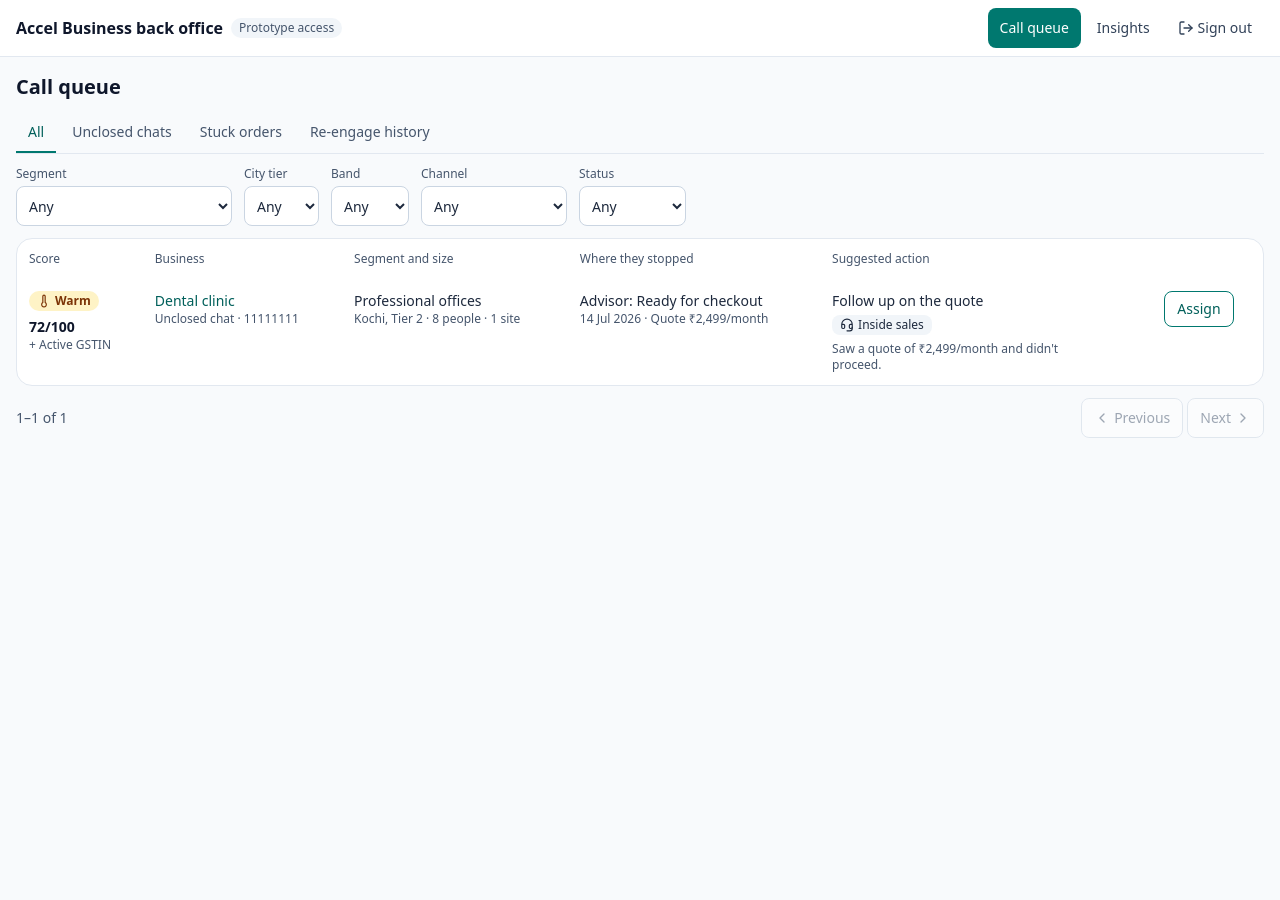
Test: passcode gate › signing out forgets the key
The width and height of the screenshot is (1280, 900).
Click the button "Sign out" at (1215, 28), box [1166,8,1264,48]
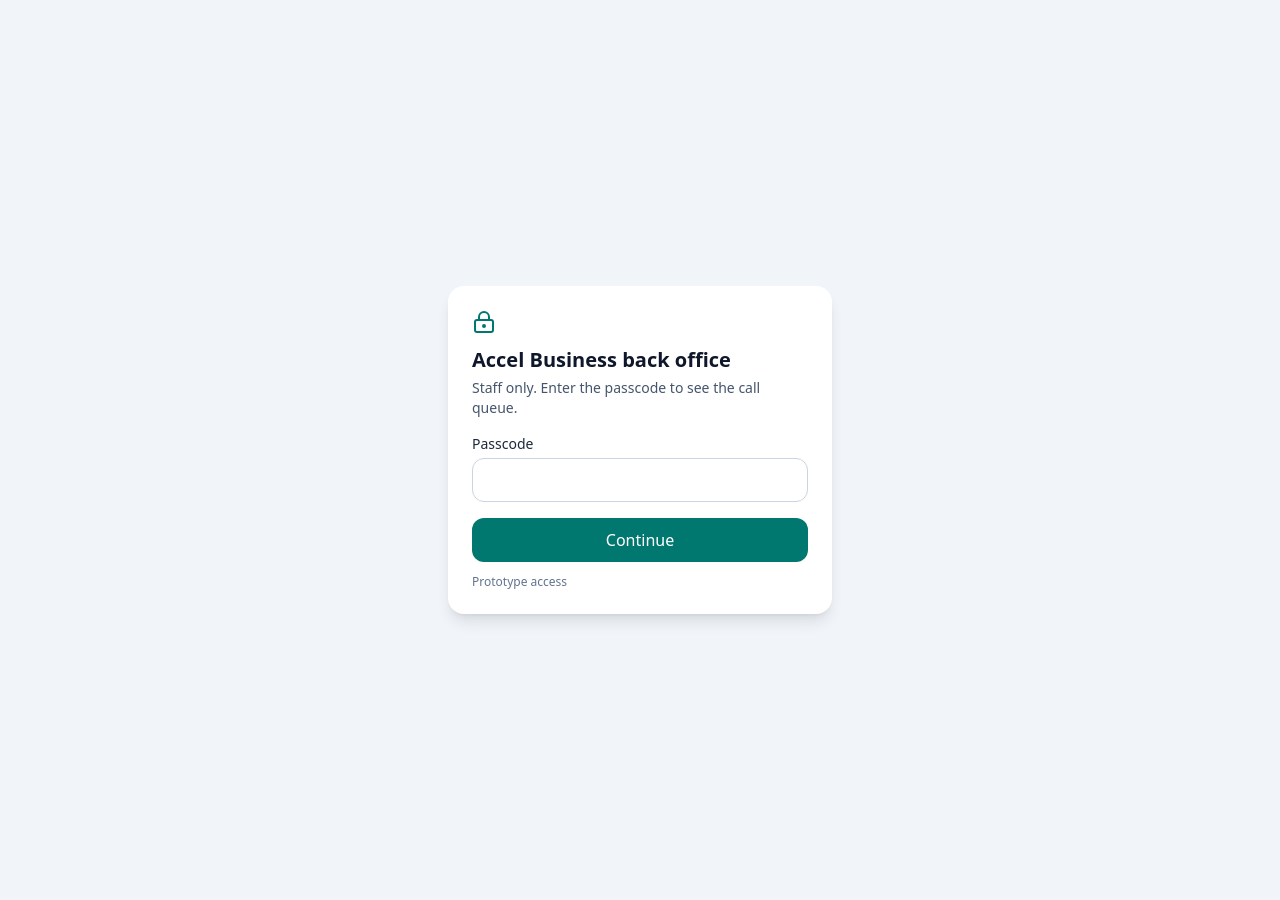
Now the password field labelled "Passcode" is shown, box [472,458,808,502]
